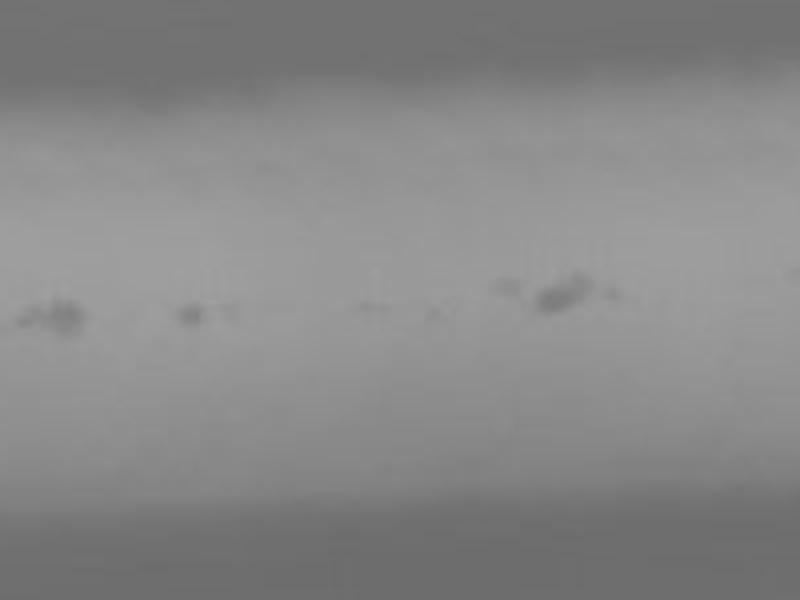defect: (47, 303, 82, 338), (537, 285, 565, 313), (181, 302, 205, 326), (563, 274, 587, 298), (495, 277, 515, 297), (424, 301, 442, 319), (218, 301, 235, 318), (16, 311, 32, 327), (601, 284, 617, 300), (359, 297, 373, 311), (375, 300, 388, 313)
